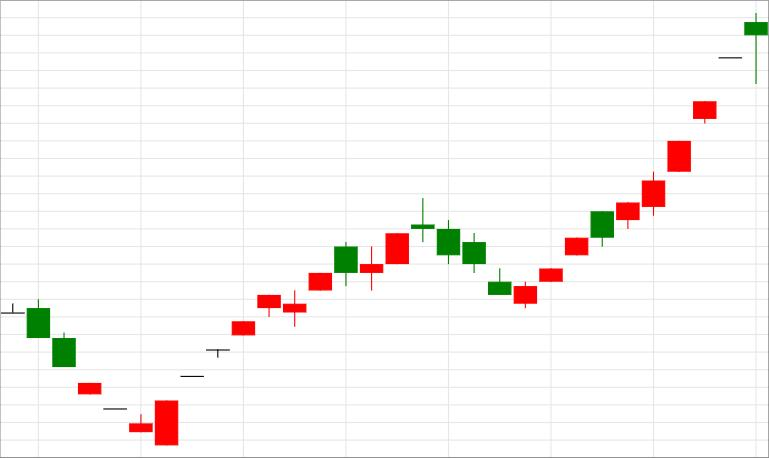evening_star_fall: (231, 197, 460, 335)
